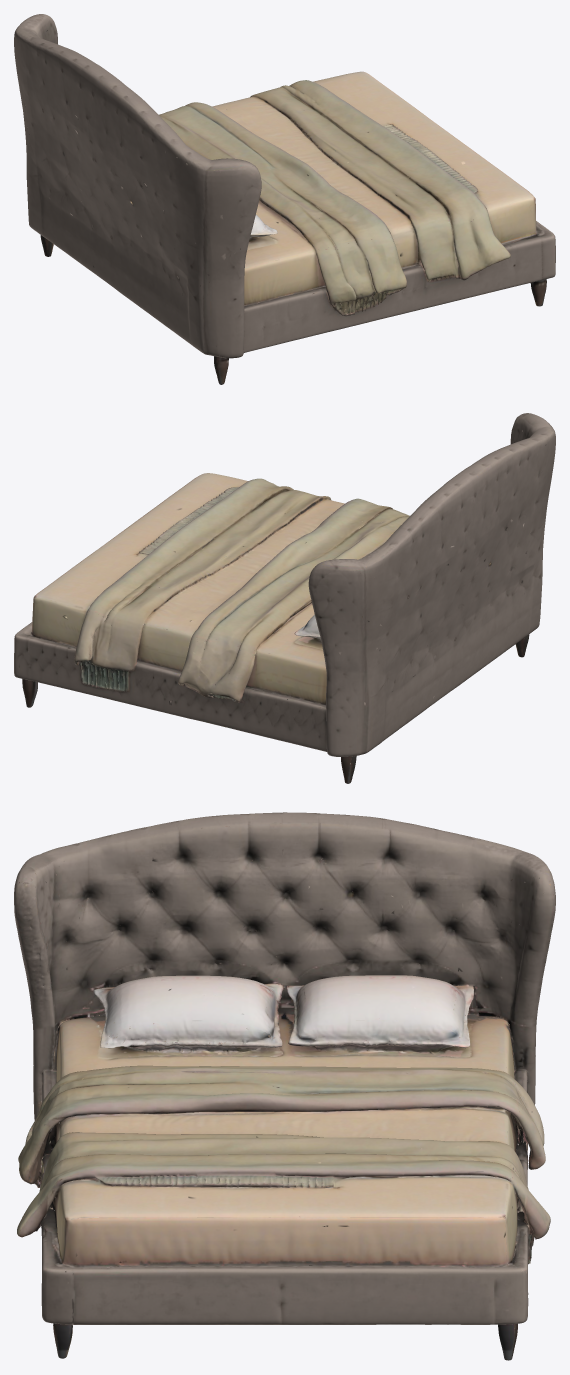
Rendered from bed_dreamburst_taupe.glb.
3 views of the same model, one above another, from view 1: azimuth 30°, elevation 25°; view 2: azimuth 150°, elevation 25°; view 3: azimuth 270°, elevation 25° (orthographic). The views are drawn at different scales.
Visible parts, largest first — view 1: Object_4, Object_5, Object_6, Object_7; view 2: Object_4, Object_5, Object_6, Object_7; view 3: Object_4, Object_5, Object_6, Object_7.
Part boxes in pixels (x1=…): Object_4: x1=29, y1=22, x2=510, y2=357; Object_5: x1=14, y1=14, x2=555, y2=384; Object_6: x1=14, y1=17, x2=555, y2=377; Object_7: x1=15, y1=15, x2=555, y2=377; Object_4: x1=88, y1=418, x2=555, y2=756; Object_5: x1=14, y1=413, x2=554, y2=783; Object_6: x1=15, y1=413, x2=555, y2=783; Object_7: x1=14, y1=416, x2=552, y2=781; Object_4: x1=14, y1=822, x2=555, y2=1237; Object_5: x1=17, y1=812, x2=554, y2=1353; Object_6: x1=14, y1=813, x2=555, y2=1360; Object_7: x1=16, y1=815, x2=554, y2=1353.
Bounding box in the file's own units: 1.99 × 1.3 × 1.96.
1 material, 1 textured.
